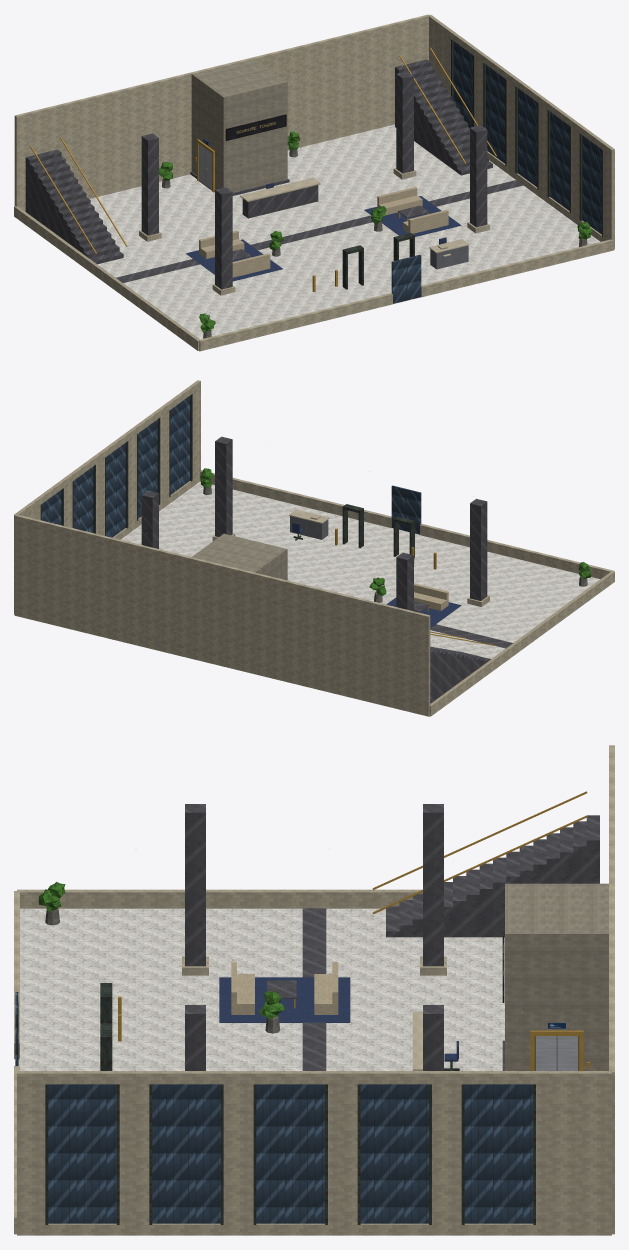
Rendered from SchruteLobby.fbx.
3 views of the same model, one above another, from view 1: azimuth 30°, elevation 25°; view 2: azimuth 150°, elevation 25°; view 3: azimuth 270°, elevation 25° (orthographic). The views are drawn at different scales.
Parts seen in each view (by area): view 1: Lob_Floor, Lob_WallN, Lob_WallE, Lob_ElevatorShaft, Lob_StairsW, Lob_StairsE, Lob_WallS, Lob_WallW, NoCol_LobBand, Lob_Reception, Lob_Column-8-4, Lob_Column84 (+13 smaller); view 2: Lob_WallN, Lob_Floor, Lob_WallE, Lob_WallS, Lob_ElevatorShaft, Lob_WallW, Lob_StairsW, Lob_Column-8-4, Lob_Column8-4, Lob_Door, Lob_Column-84, Lob_Column84 (+6 smaller); view 3: Lob_WallE, Lob_Floor, Lob_ElevatorShaft, Lob_StairsW, Lob_WallW, Lob_Column-8-4, Lob_Column-84, NoCol_LobRug-1, NoCol_LobBand, Lob_WallN, Elev_DoorE, Lob_WallS (+7 smaller).
Part boxes in pixels (x1,y1,x2,y2): Lob_Floor: (89,124,600,351); Lob_WallN: (14,14,429,211); Lob_WallE: (428,15,614,249); Lob_ElevatorShaft: (191,58,287,192); Lob_StairsW: (25,137,127,264); Lob_StairsE: (395,47,496,175); Lob_WallS: (199,239,614,351); Lob_WallW: (14,206,199,350); NoCol_LobBand: (116,180,523,282); Lob_Reception: (240,177,320,218); Lob_Column-8-4: (212,187,235,295); Lob_Column84: (393,71,416,179); Lob_WallN: (14,514,430,716); Lob_Floor: (121,481,600,716); Lob_WallE: (14,380,200,614); Lob_WallS: (200,470,614,578); Lob_ElevatorShaft: (192,533,287,580); Lob_WallW: (429,571,614,716); Lob_StairsW: (430,631,496,703); Lob_Column-8-4: (467,498,489,606); Lob_Column8-4: (212,436,235,541); Lob_Door: (391,485,421,534); Lob_Column-84: (396,552,413,611); Lob_Column84: (141,490,158,548); Lob_WallE: (17,1071,611,1235); Lob_Floor: (17,908,611,1235); Lob_ElevatorShaft: (505,883,608,1070); Lob_StairsW: (372,791,599,937); Lob_WallW: (17,889,422,908); Lob_Column-8-4: (182,804,208,975); Lob_Column-84: (420,804,446,975); NoCol_LobRug-1: (219,977,350,1022); NoCol_LobBand: (302,908,326,1070); Lob_WallN: (609,745,614,1234); Elev_DoorE: (530,1023,590,1070); Lob_WallS: (14,891,19,1234).
Bounding box in the file's own units: 26.22 × 6.05 × 20.2.
